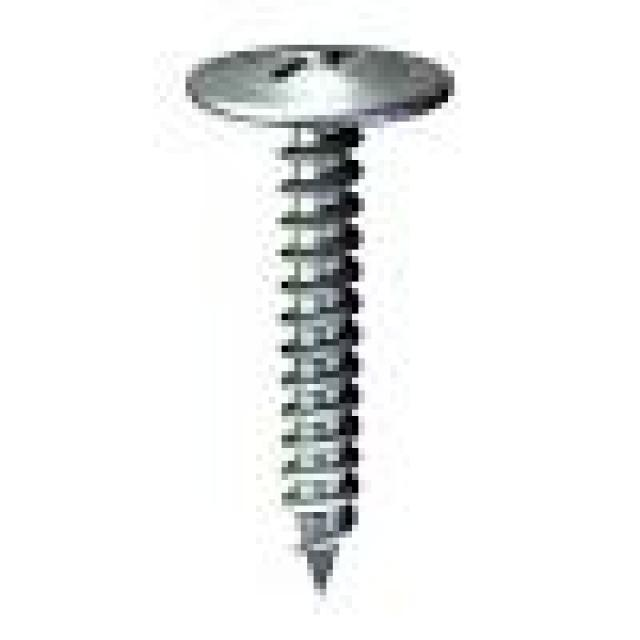Screw: (186, 45, 454, 595)
